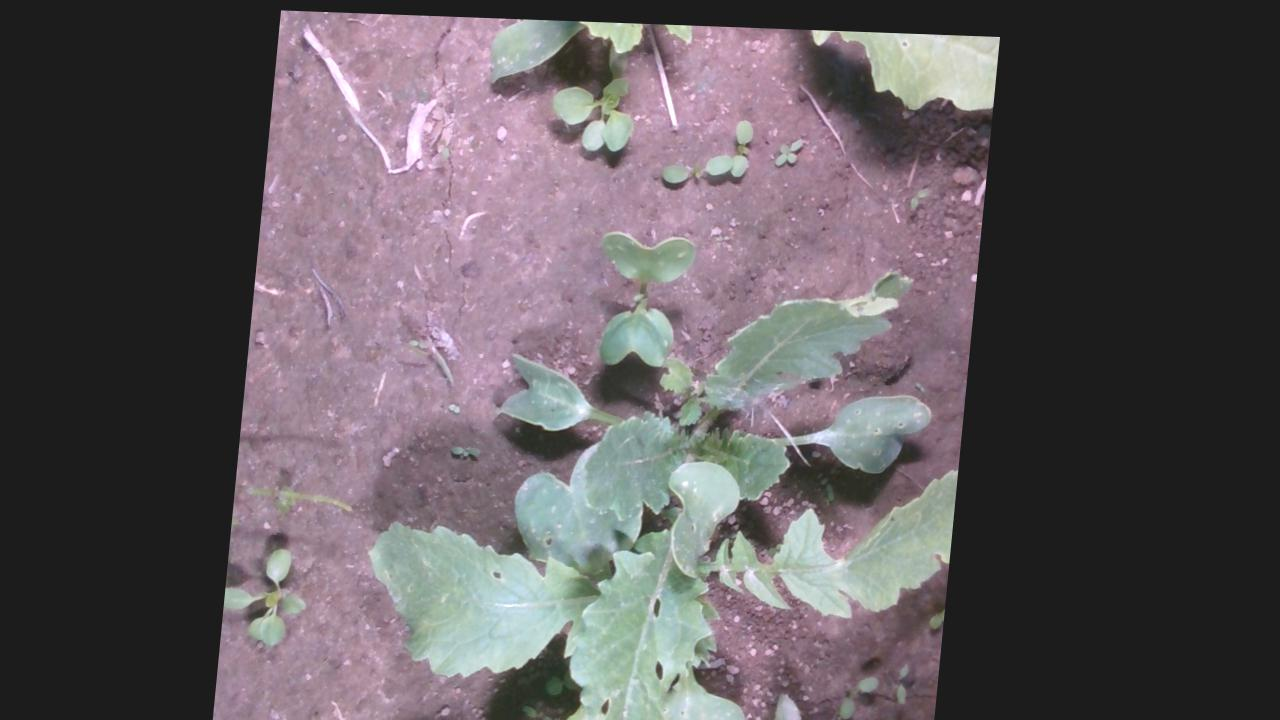weed: (776, 129, 807, 161), (914, 179, 935, 206)
